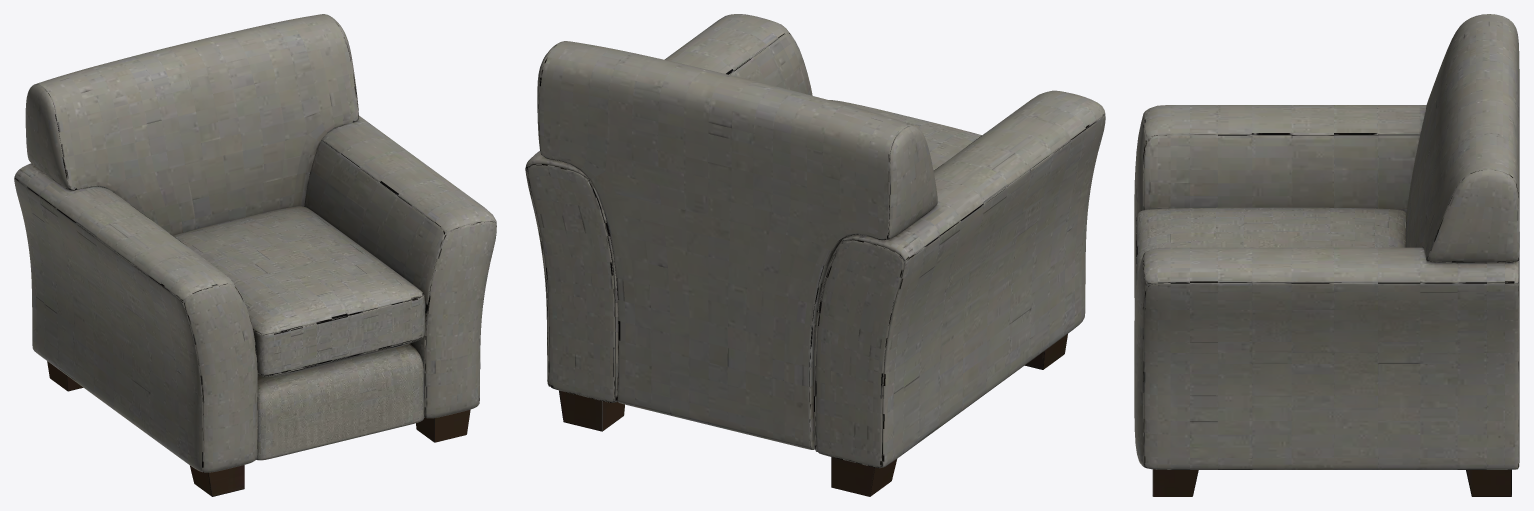
Rendered from fit-cinema.glb.
3 views of the same model, side by side, from view 1: azimuth 30°, elevation 25°; view 2: azimuth 150°, elevation 25°; view 3: azimuth 270°, elevation 25° (orthographic). The views are drawn at different scales.
Bounding box in the file's own units: 0.9237 × 0.8508 × 0.8709.
1 material, 1 textured.
